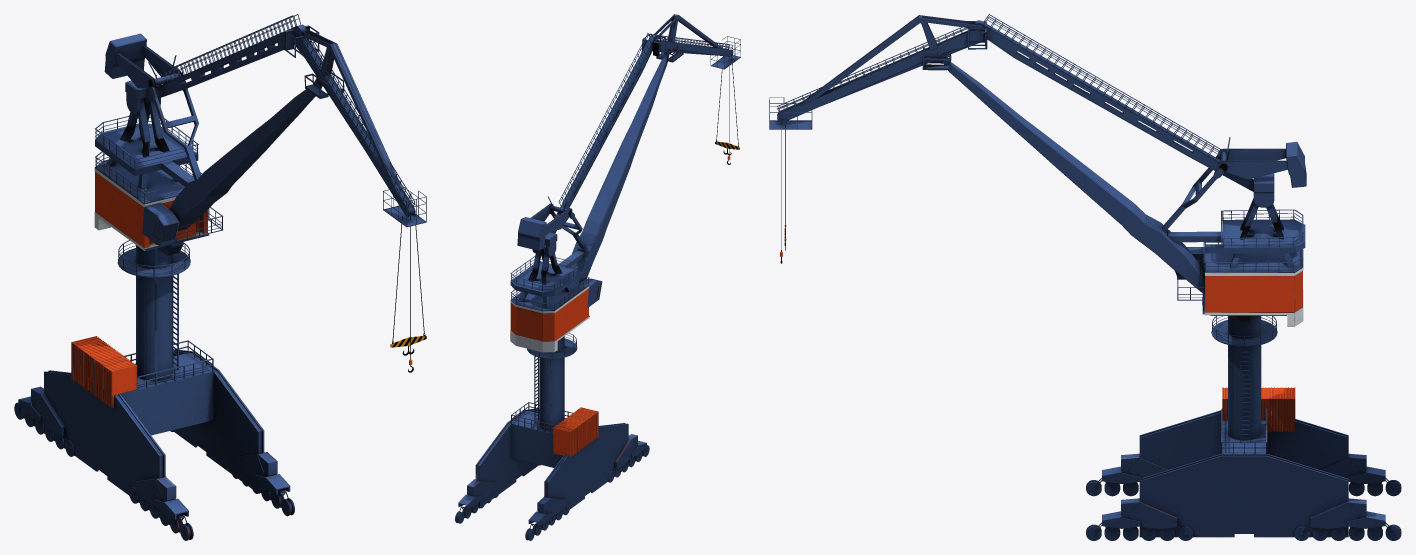
Rendered from LLC_Rigged_20260822.glb.
3 renders of one model, left to right at view 1: azimuth 30°, elevation 25°; view 2: azimuth 150°, elevation 25°; view 3: azimuth 270°, elevation 25°, orthographic. The views are drawn at different scales.
Visible parts, largest first — view 1: Base, Link_01, Upper Link_01, Upper Link_02, Lower Link_01, Lower Link_02, Link_End; view 2: Base, Link_01, Upper Link_01, Lower Link_01, Upper Link_02, Link_End, Lower Link_02; view 3: Base, Link_01, Upper Link_01, Lower Link_01, Upper Link_02, Lower Link_02.
Boxes of the visible parts, x1,y1,x2,y2 form: Base: [14, 240, 294, 540]; Link_01: [94, 80, 223, 255]; Upper Link_01: [104, 14, 319, 102]; Upper Link_02: [294, 27, 426, 227]; Lower Link_01: [169, 78, 322, 230]; Lower Link_02: [149, 80, 200, 180]; Link_End: [390, 214, 426, 372]; Base: [455, 333, 649, 540]; Link_01: [510, 232, 602, 352]; Upper Link_01: [517, 33, 666, 250]; Lower Link_01: [569, 50, 669, 282]; Upper Link_02: [649, 14, 740, 69]; Link_End: [715, 56, 739, 164]; Lower Link_02: [550, 210, 585, 248]; Base: [1086, 316, 1401, 540]; Link_01: [1168, 173, 1305, 326]; Upper Link_01: [967, 14, 1306, 191]; Lower Link_01: [940, 53, 1204, 294]; Upper Link_02: [769, 15, 984, 129]; Lower Link_02: [1162, 155, 1223, 231].
Size of the model in its own units: 11.56 by 53.22 by 60.69.
4 materials, 4 textured.
